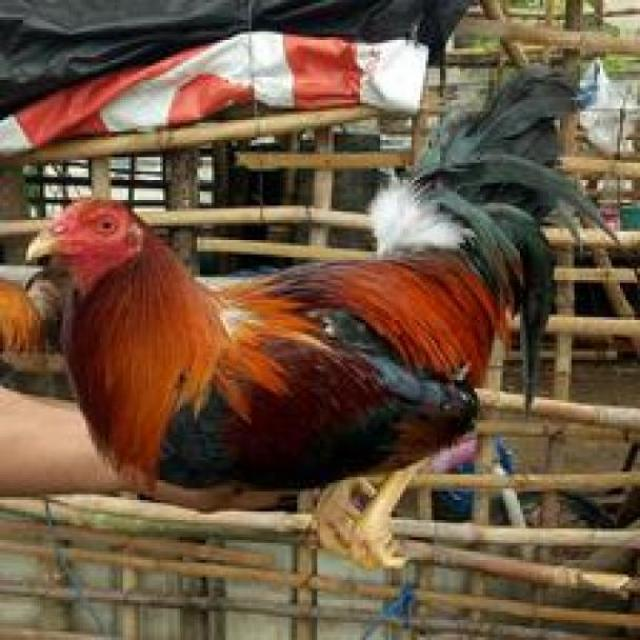Chicken: (31, 92, 628, 593)
